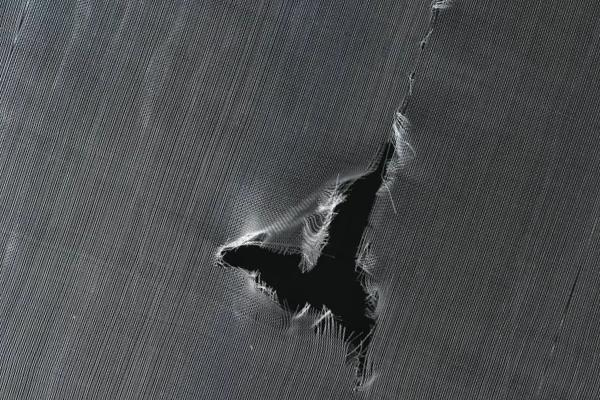hole: (212, 123, 396, 390)
